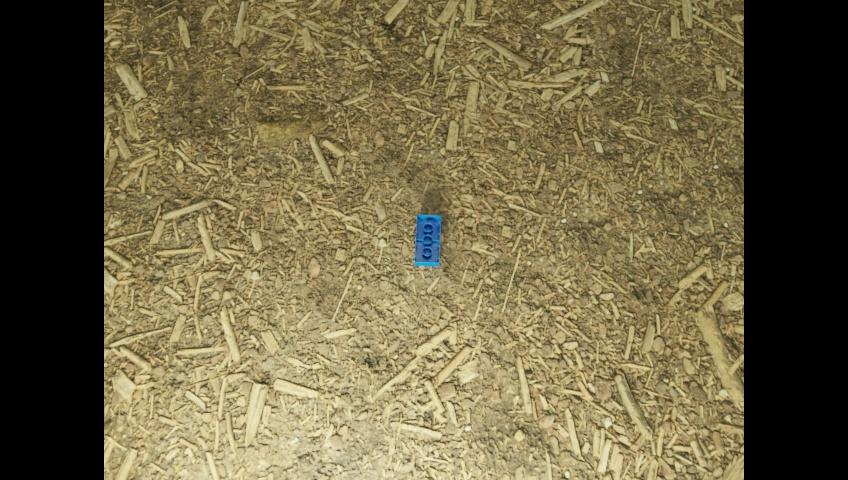4x2_blue: (414, 215, 440, 266)
